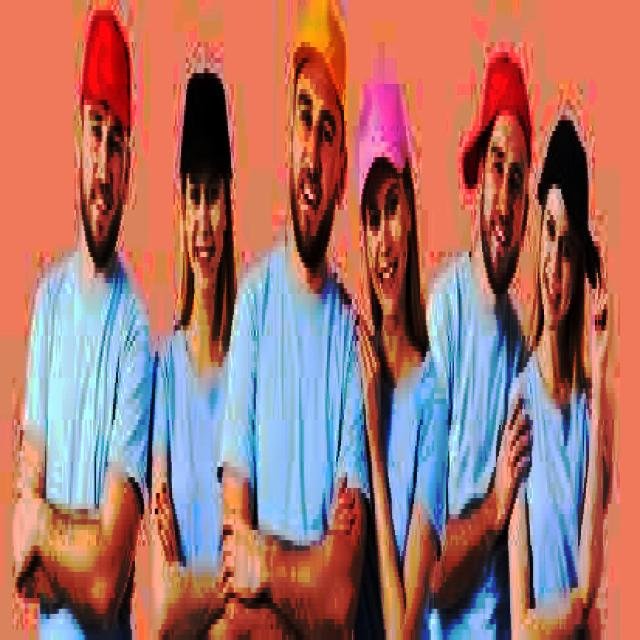TOPI: (531, 105, 603, 299), (459, 42, 533, 199), (352, 68, 411, 220), (73, 0, 133, 142), (174, 53, 232, 194), (288, 0, 348, 115)
